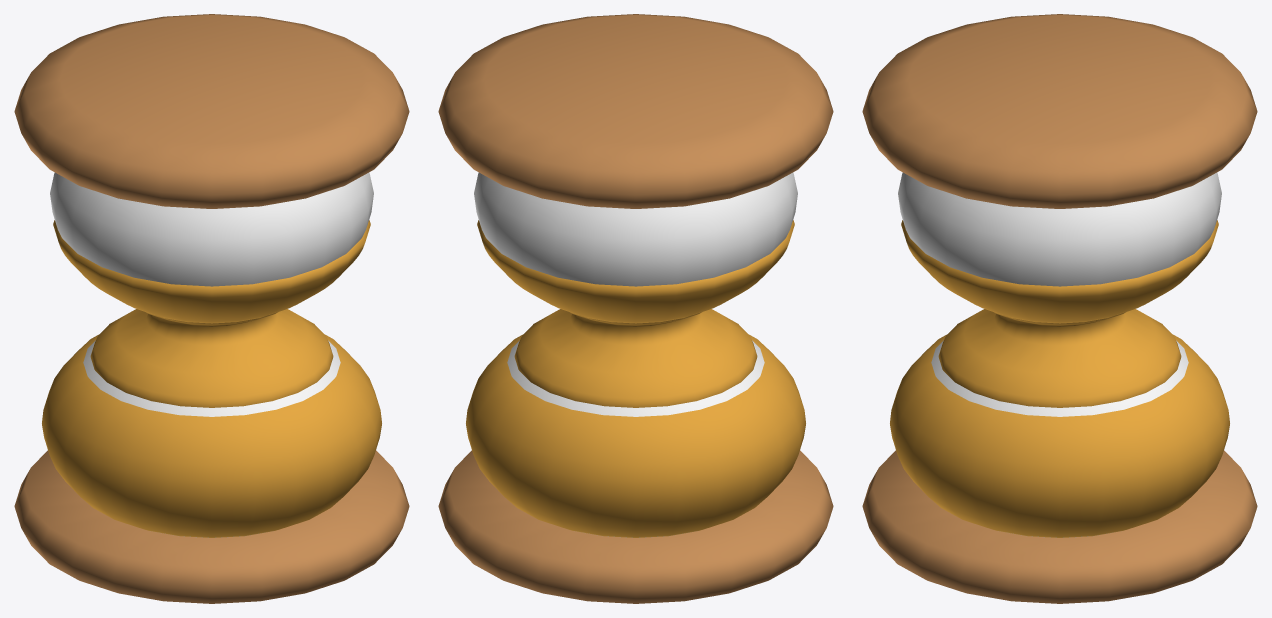
The model's file is hourglass.glb.
The picture shows the model from 3 angles, left to right: view 1: azimuth 30°, elevation 25°; view 2: azimuth 150°, elevation 25°; view 3: azimuth 270°, elevation 25°; orthographic projection.
Visible parts, largest first — view 1: hourglass; view 2: hourglass; view 3: hourglass.
Part boxes in pixels (x1,y1,x2,y2): hourglass: [14, 14, 409, 603]; hourglass: [438, 14, 833, 603]; hourglass: [862, 14, 1257, 603].
Bounding box in the file's own units: 0.78 × 1 × 0.78.
